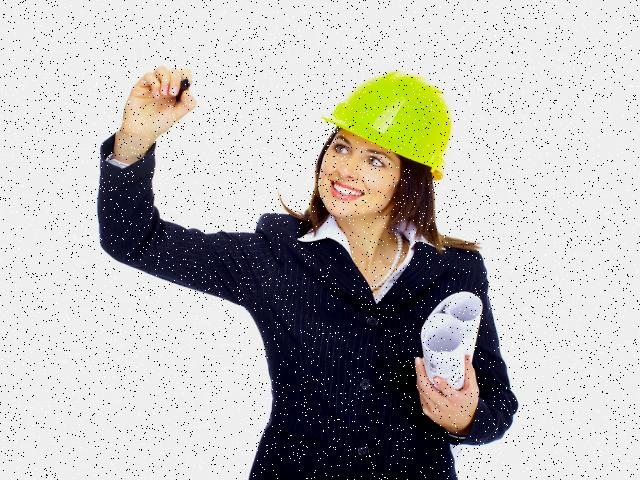Helmet: (314, 66, 457, 189)
